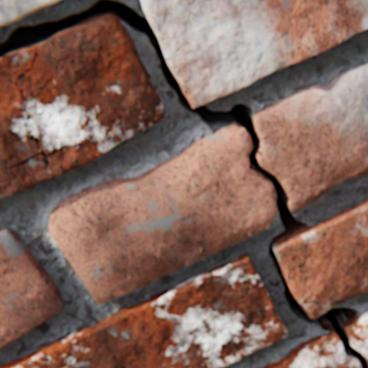brick: (0, 253, 287, 367), (0, 15, 164, 199), (141, 0, 367, 108), (272, 199, 367, 318), (0, 228, 65, 349), (0, 0, 63, 28)
broken_brick: (49, 127, 277, 304), (253, 63, 367, 213), (263, 331, 361, 367), (346, 312, 367, 367)
crack: (0, 0, 365, 367), (6, 47, 82, 171), (297, 254, 311, 267)
